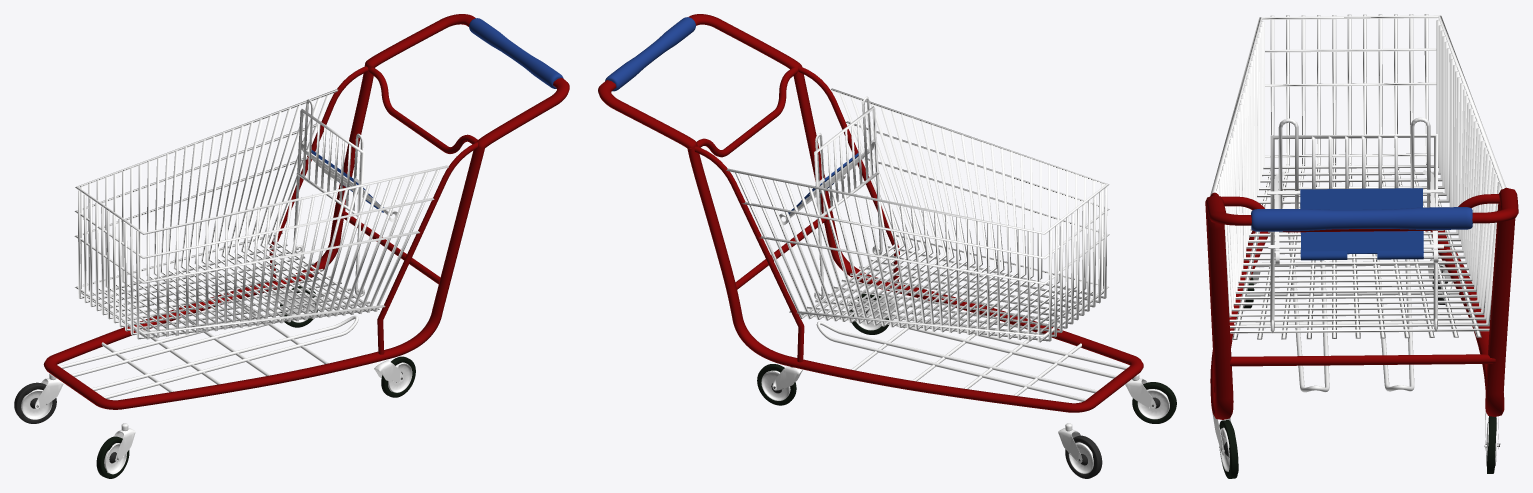
File: cart.gltf
3 renders of one model, left to right at view 1: azimuth 30°, elevation 25°; view 2: azimuth 150°, elevation 25°; view 3: azimuth 270°, elevation 25°, orthographic. The views are drawn at different scales.
Visible parts, largest first — view 1: fgh, Rectangle001, Rectangle002, hjhj, Cylinder012, Line011, Line028, Line010, Shape001, Loft05, l; view 2: fgh, Rectangle001, Rectangle002, hjhj, Cylinder012, Line010, Line028, Line011, Loft006, Shape001, Loft05; view 3: fgh, Rectangle001, o, Cylinder012, hjhj, Rectangle002, Shape001, Line028, l, Loft007, Loft008.
Boxes of the visible parts, <box> form: fgh: <box>74,89,448,339</box>; Rectangle001: <box>43,14,569,409</box>; Rectangle002: <box>59,295,358,398</box>; hjhj: <box>293,99,364,297</box>; Cylinder012: <box>469,18,563,88</box>; Line011: <box>377,142,477,354</box>; Line028: <box>368,68,477,153</box>; Line010: <box>269,66,368,282</box>; Shape001: <box>341,211,440,284</box>; Loft05: <box>14,382,56,423</box>; l: <box>300,140,397,222</box>; fgh: <box>726,88,1109,342</box>; Rectangle001: <box>598,14,1143,412</box>; Rectangle002: <box>816,299,1127,401</box>; hjhj: <box>814,96,882,300</box>; Cylinder012: <box>605,17,695,91</box>; Line010: <box>694,146,804,362</box>; Line028: <box>696,67,798,157</box>; Line011: <box>797,66,899,284</box>; Loft006: <box>1132,382,1176,423</box>; Shape001: <box>735,214,827,289</box>; Loft05: <box>1065,435,1102,478</box>; fgh: <box>1210,14,1506,339</box>; Rectangle001: <box>1205,188,1518,419</box>; o: <box>1300,188,1423,260</box>; Cylinder012: <box>1251,207,1472,231</box>; hjhj: <box>1270,117,1437,333</box>; Rectangle002: <box>1234,232,1472,392</box>; Shape001: <box>1230,354,1495,366</box>; Line028: <box>1221,194,1499,232</box>; l: <box>1267,170,1443,264</box>; Loft007: <box>1219,420,1238,478</box>; Loft008: <box>1487,416,1496,473</box>.
Bounding box in the file's own units: 1.42 × 0.8193 × 0.5817.
